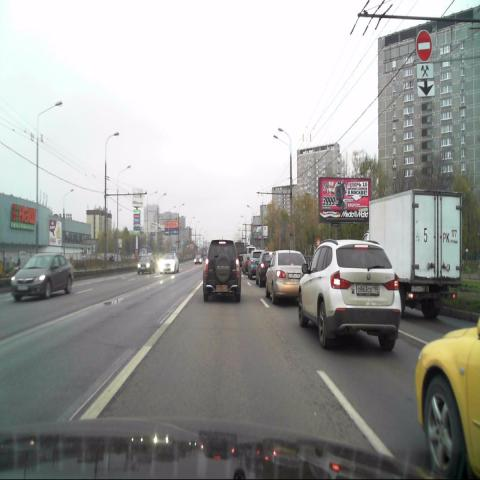3_1: (415, 29, 432, 62)
8_5_2: (417, 64, 433, 79)
